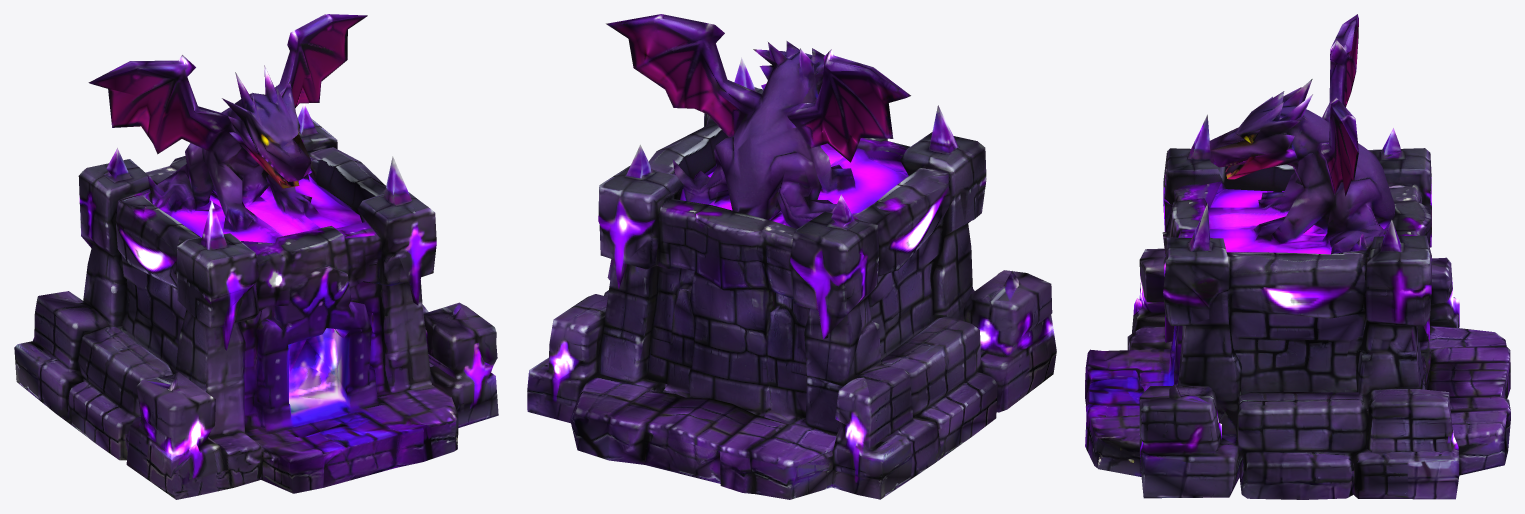
File: void_tower_lvl1.glb
The picture shows the model from 3 angles, left to right: view 1: azimuth 30°, elevation 25°; view 2: azimuth 150°, elevation 25°; view 3: azimuth 270°, elevation 25°; orthographic projection. The views are drawn at different scales.
Visible parts, largest first — view 1: mesh_node; view 2: mesh_node; view 3: mesh_node.
Boxes of the visible parts, x1=… form: mesh_node: x1=14, y1=14, x2=498, y2=499; mesh_node: x1=527, y1=14, x2=1056, y2=499; mesh_node: x1=1085, y1=14, x2=1510, y2=499.
Size of the model in its own units: 1.73 by 1.72 by 1.89.
1 material, 1 textured.
